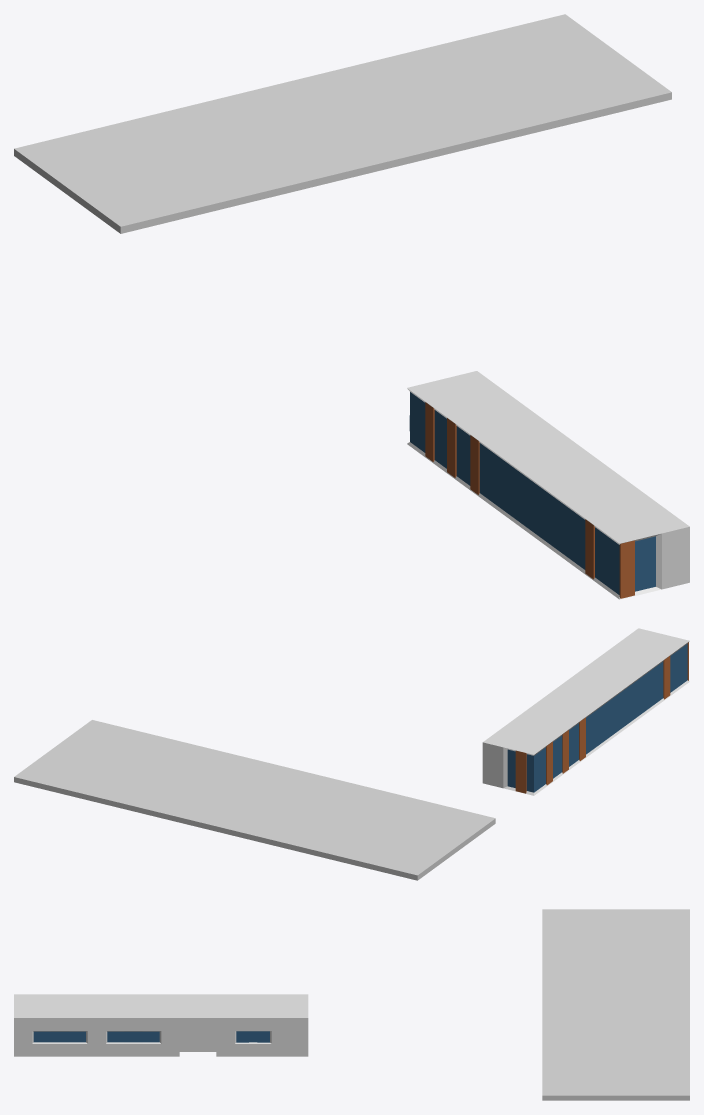
File: JustHuPanHuoDongShi.fbx
3 renders of one model, top to bottom at view 1: azimuth 30°, elevation 25°; view 2: azimuth 150°, elevation 25°; view 3: azimuth 270°, elevation 25°, orthographic. The views are drawn at different scales.
Visible parts, largest first — view 1: 外延上, 主体.002, 活动室装饰6; view 2: 外延上, 主体.002, 活动室装饰1; view 3: 外延上, 主体.002.
Part boxes in pixels (box(x1,y1,x2,y2)): 外延上: box(14, 14, 671, 233); 主体.002: box(407, 371, 689, 599); 活动室装饰6: box(619, 540, 634, 598); 外延上: box(14, 720, 495, 880); 主体.002: box(482, 628, 689, 795); 活动室装饰1: box(515, 750, 526, 793); 外延上: box(542, 909, 689, 1100); 主体.002: box(14, 994, 308, 1056).
Bounding box in the file's own units: 2786 × 588 × 4279.
